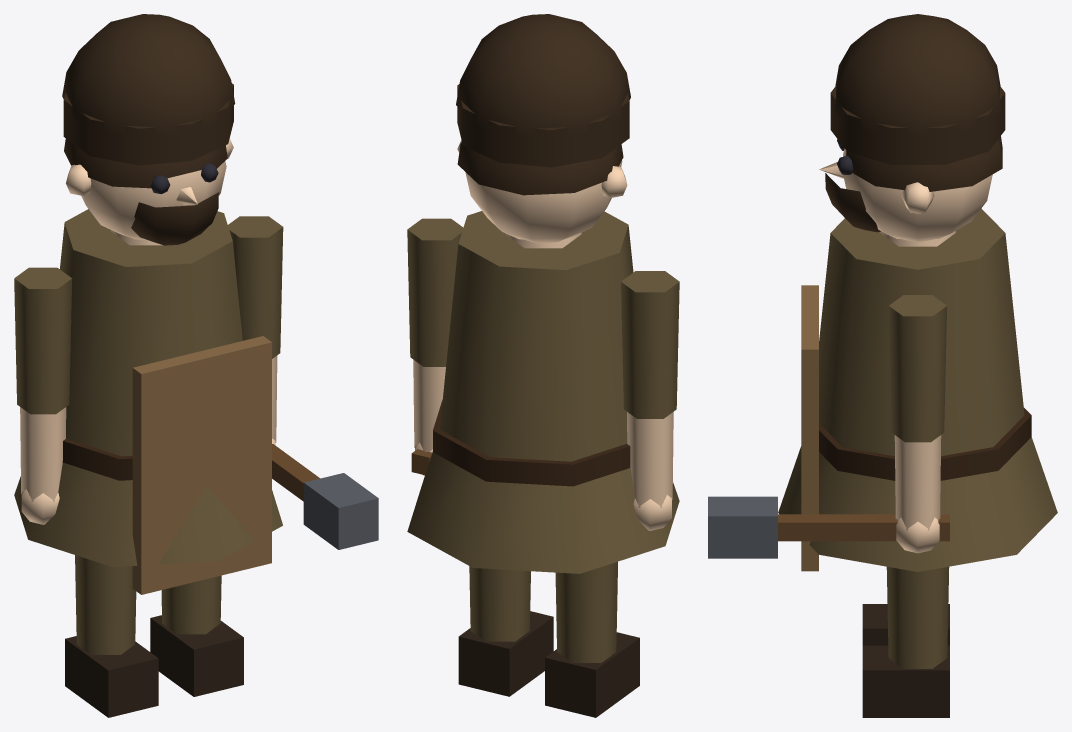
The model's file is w_wagner.glb.
3 views of the same model, side by side, from view 1: azimuth 30°, elevation 25°; view 2: azimuth 150°, elevation 25°; view 3: azimuth 270°, elevation 25° (orthographic).
Visible parts, largest first — view 1: worker, arm_l, arm_r, leg_l, leg_r; view 2: worker, arm_l, leg_l, leg_r, arm_r; view 3: worker, arm_r, leg_r, leg_l.
Boxes of the visible parts, bbox=[...] form: worker: bbox=[14, 14, 282, 594]; arm_l: bbox=[14, 267, 72, 524]; arm_r: bbox=[228, 216, 378, 549]; leg_l: bbox=[65, 555, 158, 717]; leg_r: bbox=[150, 575, 243, 696]; worker: bbox=[407, 14, 679, 573]; arm_l: bbox=[621, 271, 679, 530]; leg_l: bbox=[545, 561, 639, 717]; leg_r: bbox=[458, 566, 553, 696]; arm_r: bbox=[407, 218, 463, 475]; worker: bbox=[778, 14, 1057, 571]; arm_r: bbox=[708, 295, 949, 558]; leg_r: bbox=[862, 566, 949, 717]; leg_l: bbox=[862, 604, 949, 645].
Bounding box in the file's own units: 0.4053 × 1 × 0.48.
